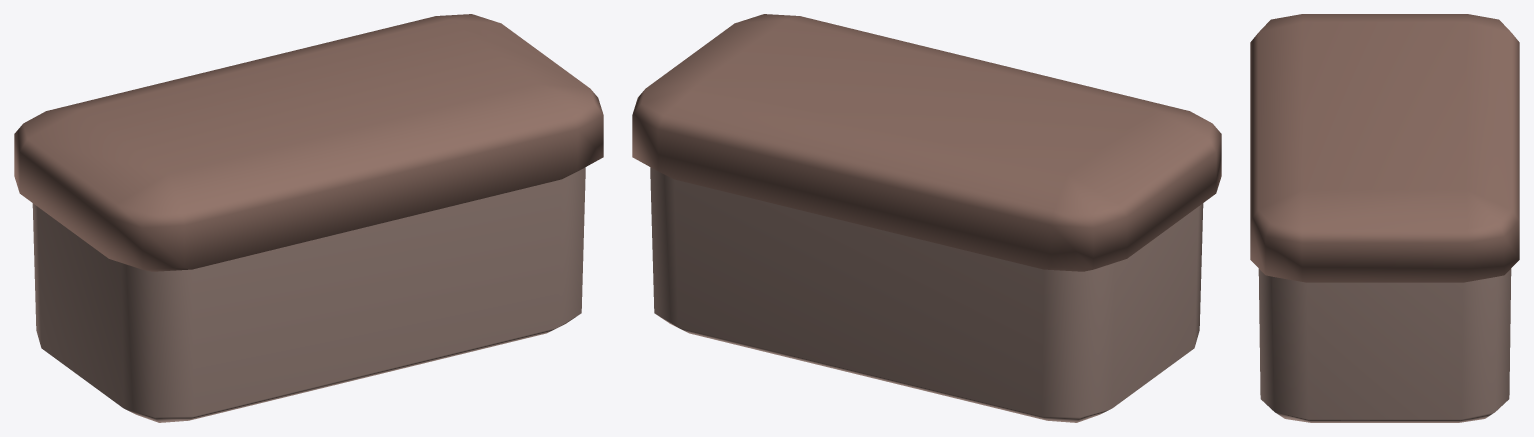
Rendered from chair_002.fbx.
3 views of the same model, side by side, from view 1: azimuth 30°, elevation 25°; view 2: azimuth 150°, elevation 25°; view 3: azimuth 270°, elevation 25° (orthographic). The views are drawn at different scales.
Visible parts, largest first — view 1: chair_002; view 2: chair_002; view 3: chair_002.
Part boxes in pixels (bbox=[...]): chair_002: bbox=[14, 14, 603, 422]; chair_002: bbox=[632, 14, 1221, 422]; chair_002: bbox=[1250, 14, 1519, 422].
Bounding box in the file's own units: 89.22 × 45.65 × 41.29.
